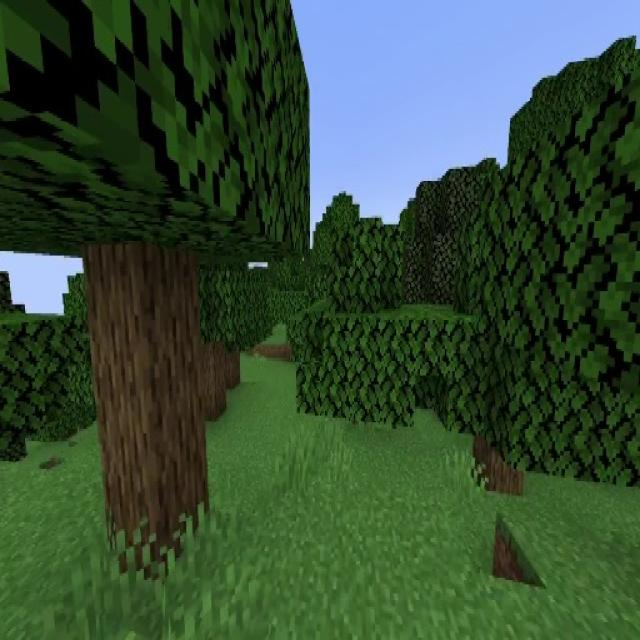oak: (0, 0, 309, 583), (430, 190, 579, 496), (164, 242, 263, 426)
oak_log: (86, 248, 202, 563), (475, 436, 521, 494), (200, 350, 223, 422), (223, 350, 238, 382)
